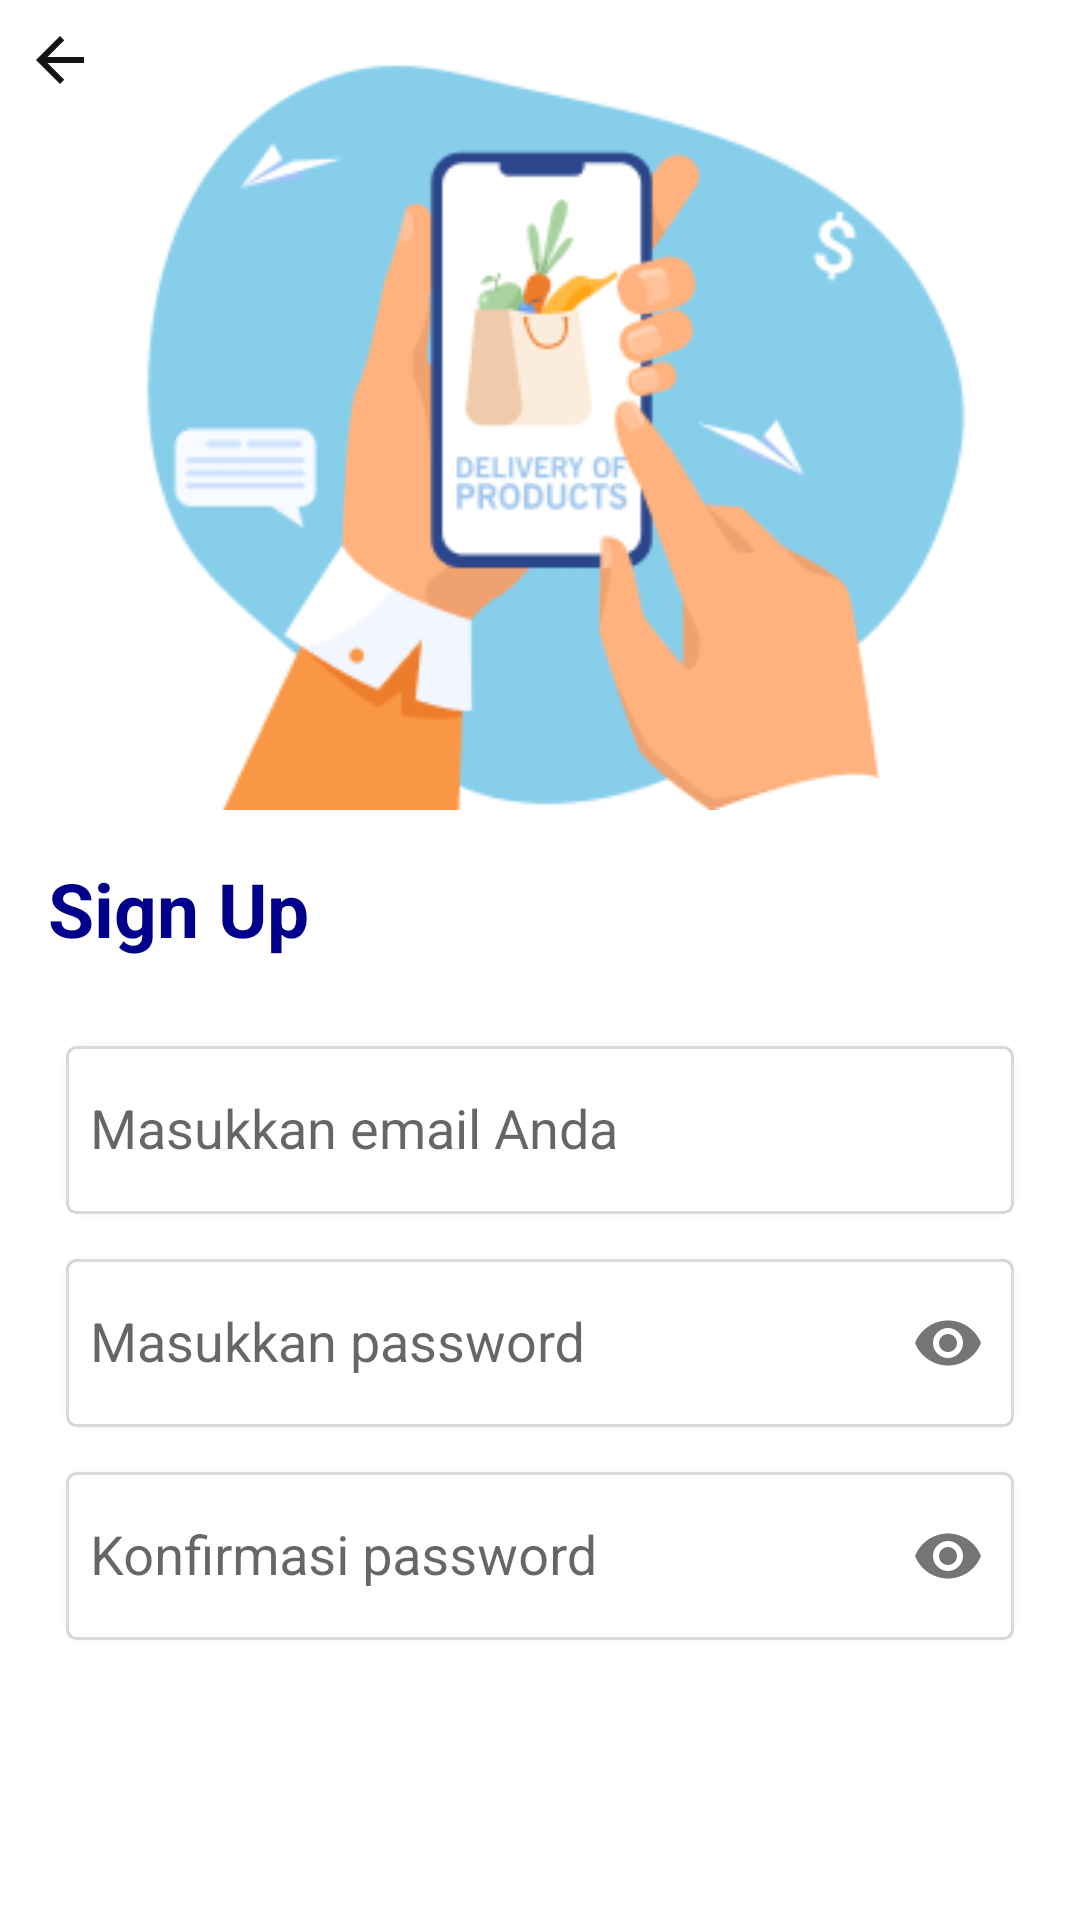

Screen size 1080w x 1920h. Icon name, then its box in pixels as BBox(x1, y1, x2, y2):
arrow back: BBox(36, 36, 84, 84)
